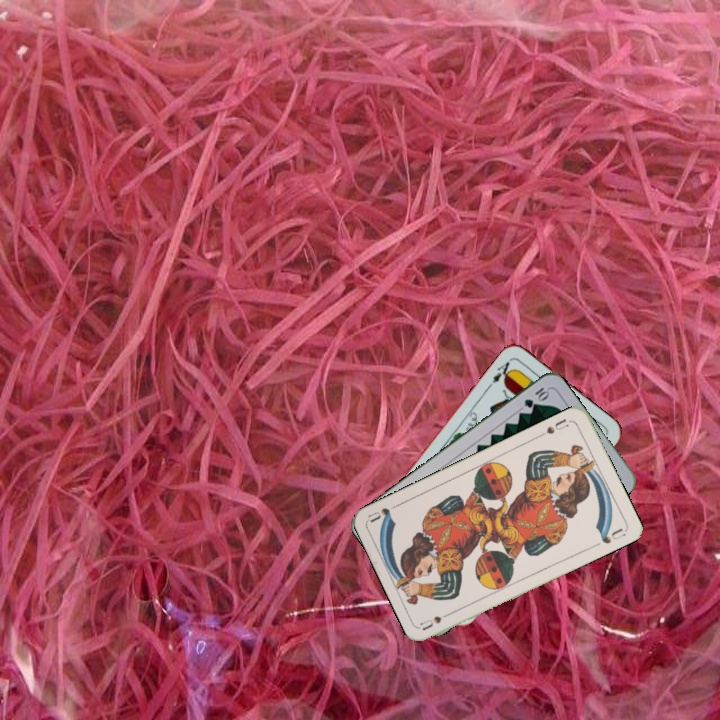EA: (485, 354, 516, 389)
G10: (520, 383, 552, 411)
SU: (417, 607, 457, 632), (536, 415, 574, 439)
